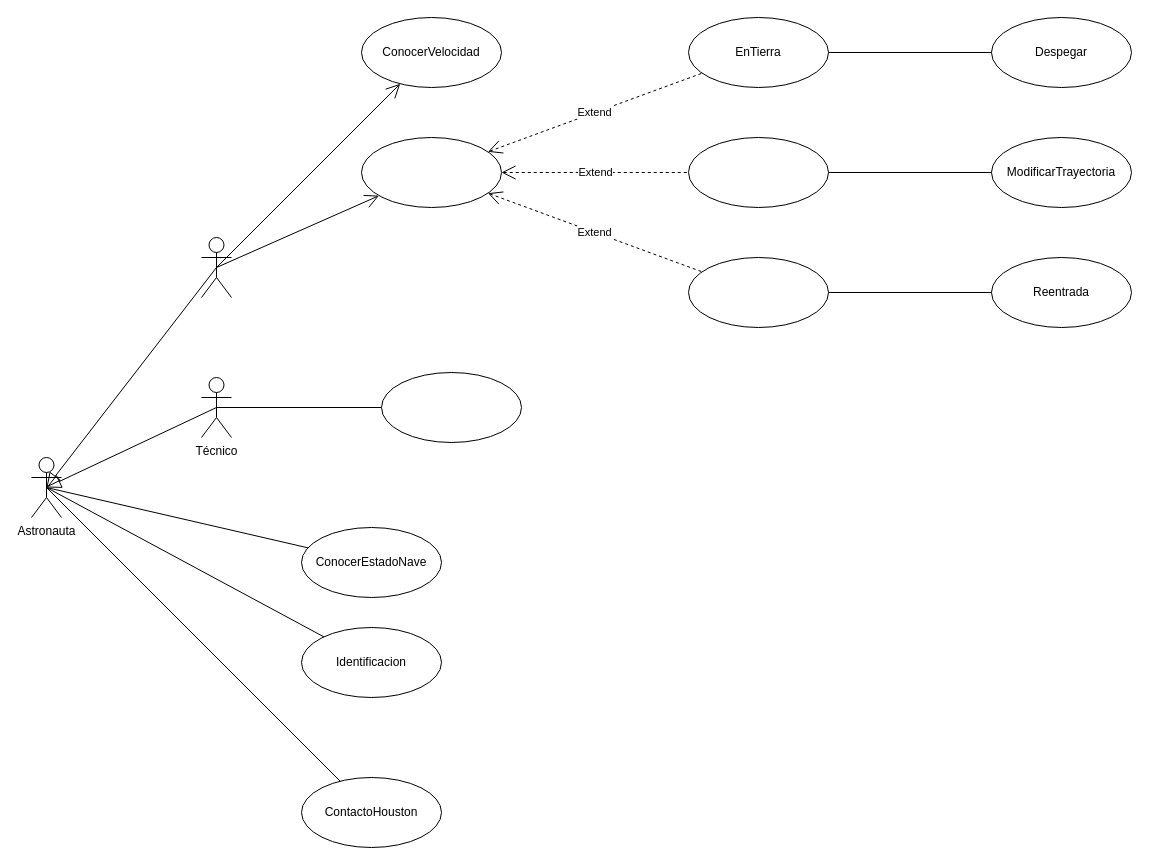
The diagram is 1149 pixels wide and 865 high, and some of its shapes have lost their labels. The shapes that lost their labels are listed below. From the top down, each one's centre as x and y in pixels, then its label:
At [431,172]: "CalcularUbicacion".
At [758,172]: "EnOrbita".
At [216,267]: "Piloto".
At [758,292]: "CercaTierra".
At [451,407]: "RepararNave".
